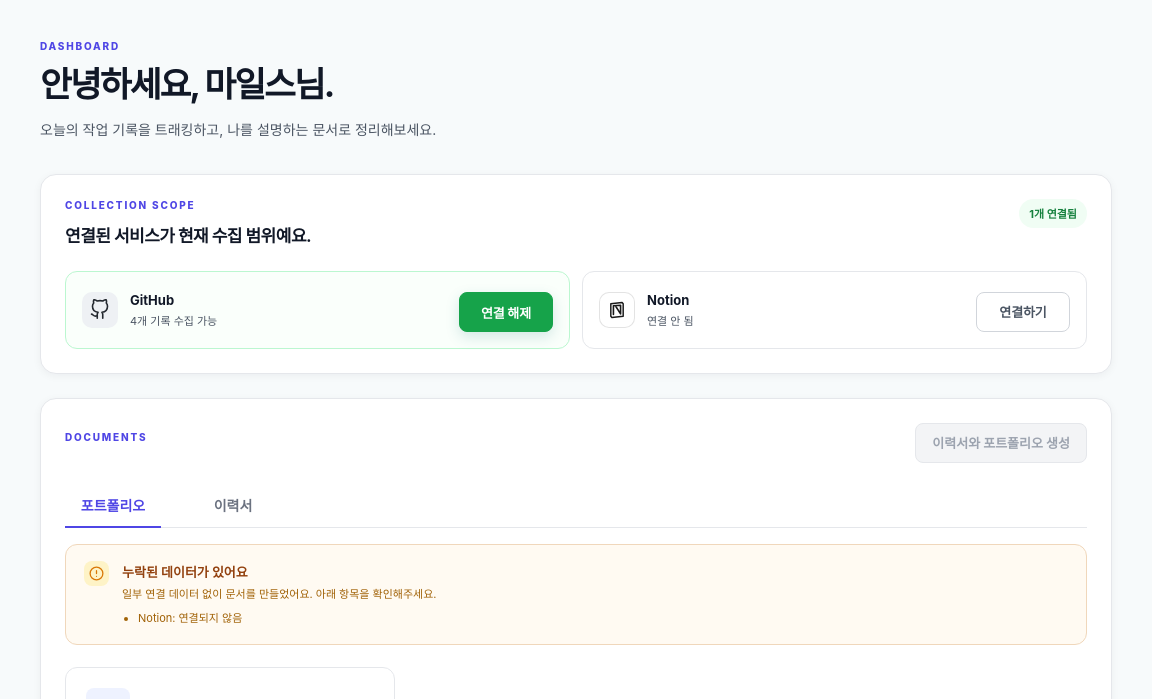
Test: DashboardPage › 연결 해제는 확인한 뒤에만 토큰을 지운다
Click the button with aria-label "GitHub 연결 해제" at (506, 312), box x1=459 y1=292 x2=553 y2=332
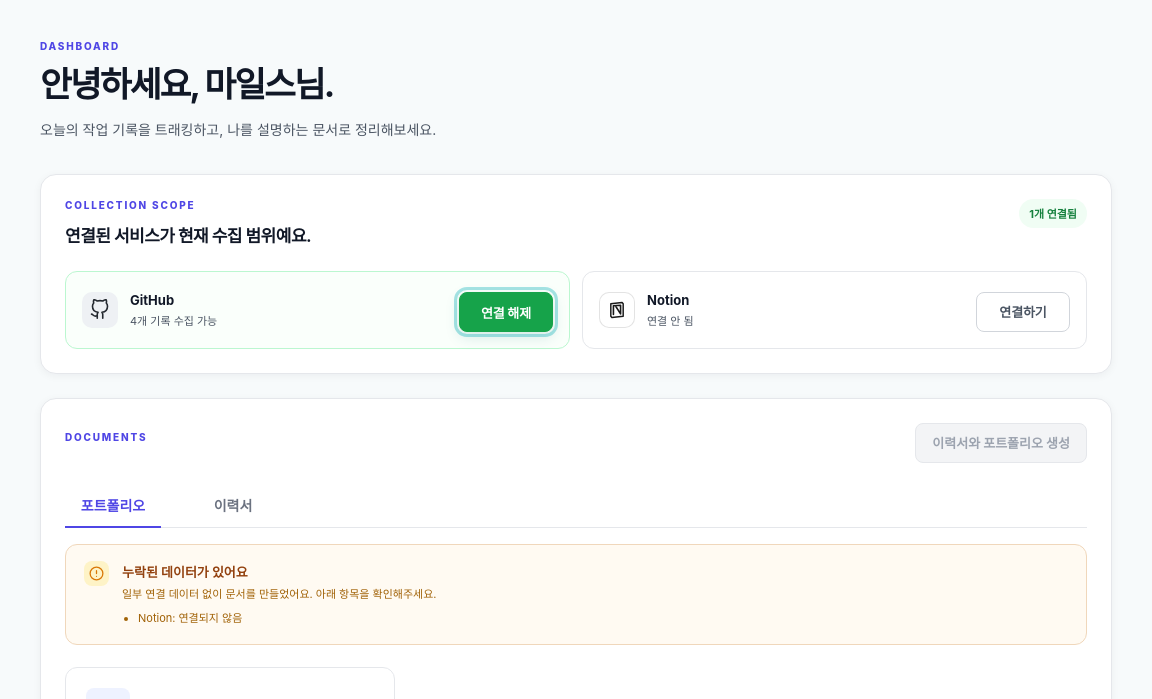
Click the button with aria-label "GitHub 연결 해제" at (506, 312), box x1=459 y1=292 x2=553 y2=332
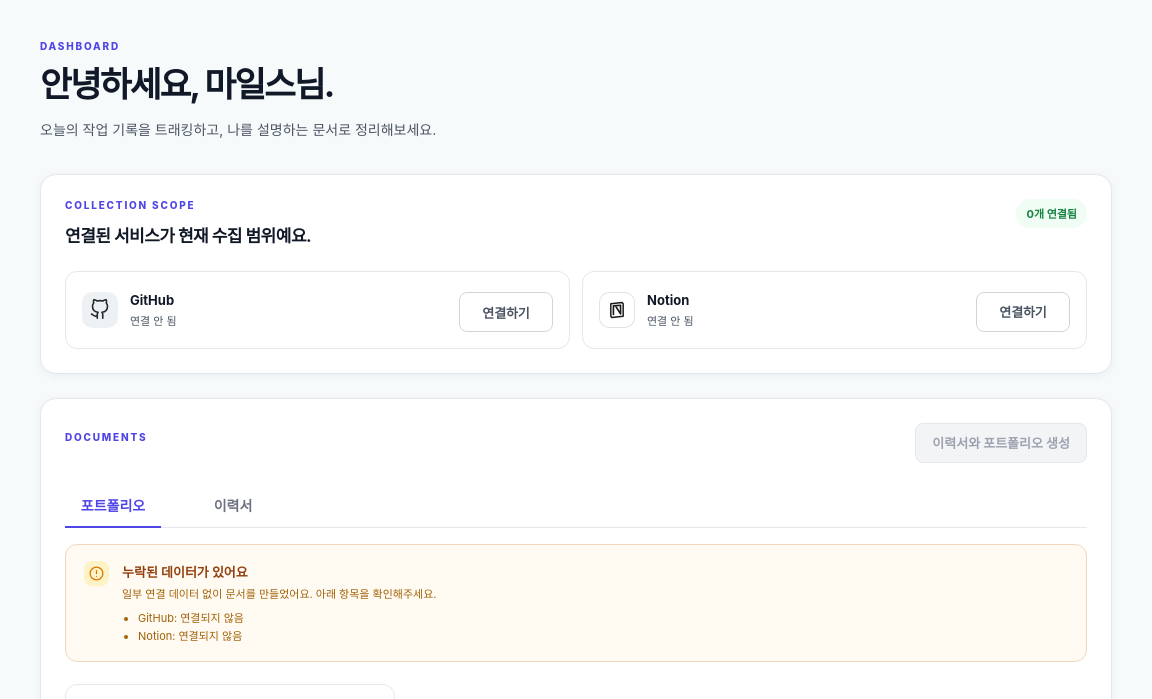
Expected: the button with aria-label "GitHub 연결하기" is shown, x1=459 y1=292 x2=553 y2=332
Expected: the text "0개 연결됨" is shown, x1=1016 y1=199 x2=1087 y2=228
